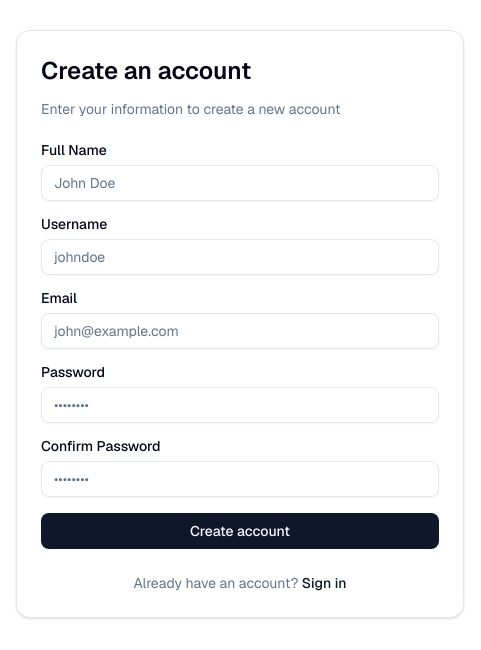
SignupPage › Form Validation › Username Validation › should show validation error when username is empty
The image size is (481, 650).
Click the field labelled "Username". click: (240, 257)
box: [41,239,439,275]
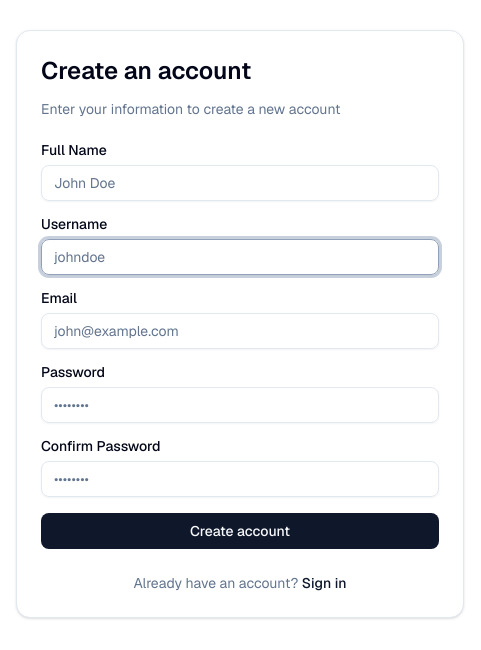
Press Tab
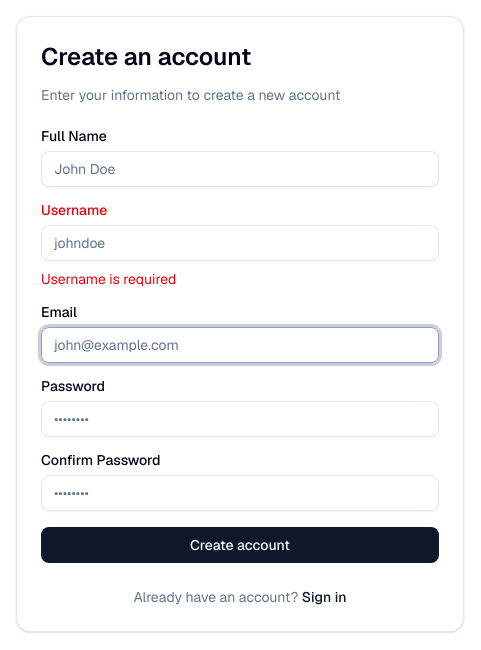
Now the text "Username is required" is shown, box [41,270,176,288]
